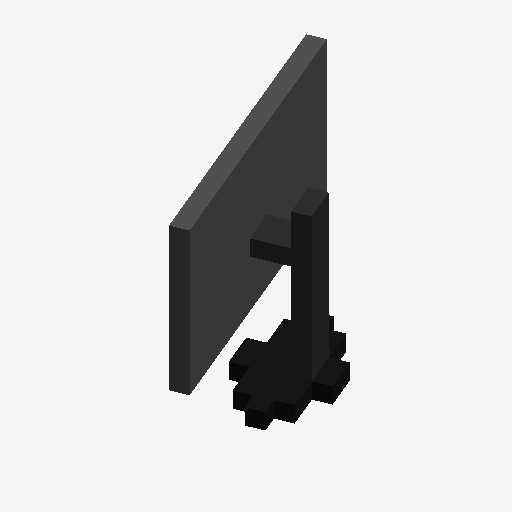
Isometric view (azimuth 45°, elevation 35.3°) of a Minecraft model made of 17 cuboids, textured from the same repository.
Parts seen in each view (by area): element 17, element 5, element 14, element 15, element 7, element 3, element 6, element 10, element 2, element 16, element 4, element 13 (+2 smaller).
Boxes of the visible parts, x1=… form: element 17: x1=198, y1=71, x2=317, y2=364; element 5: x1=291, y1=188, x2=328, y2=380; element 14: x1=178, y1=46, x2=317, y2=235; element 15: x1=169, y1=238, x2=197, y2=376; element 7: x1=233, y1=367, x2=311, y2=423; element 3: x1=229, y1=338, x2=290, y2=381; element 6: x1=250, y1=215, x2=290, y2=265; element 10: x1=198, y1=262, x2=282, y2=382; element 2: x1=312, y1=358, x2=349, y2=404; element 16: x1=318, y1=58, x2=326, y2=190; element 4: x1=267, y1=319, x2=345, y2=359; element 13: x1=169, y1=214, x2=197, y2=248.
Size of the model in its own units: 15.16 by 13 by 8.06.